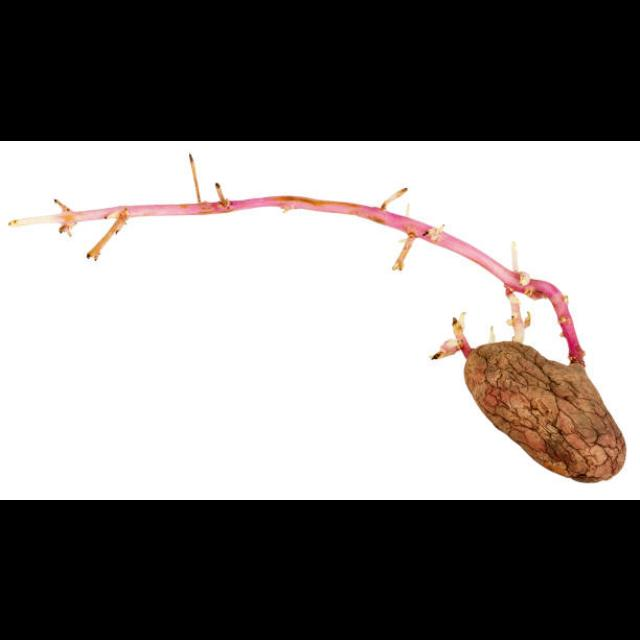Sprouted potato: (5, 165, 640, 479)
